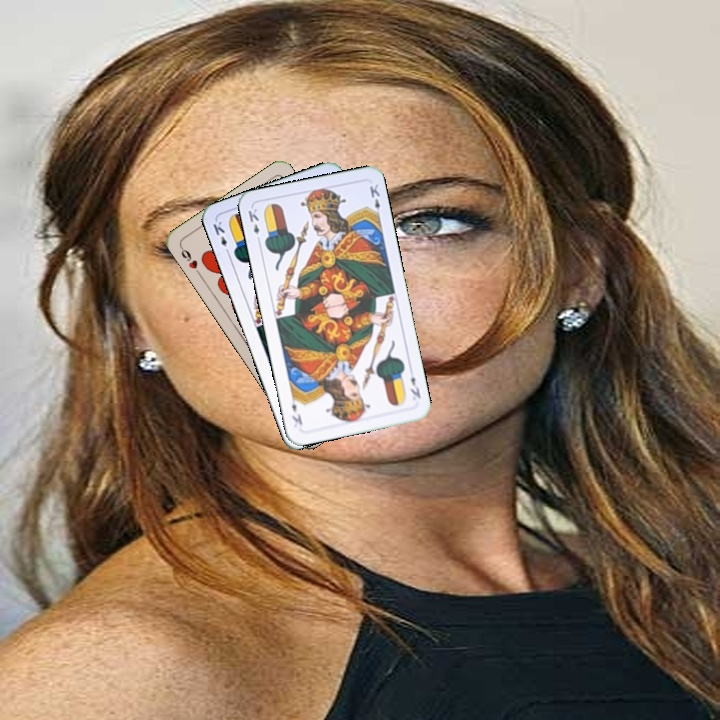EK: (209, 217, 232, 257), (244, 204, 263, 245), (406, 372, 423, 401)
H9: (176, 242, 204, 278)
